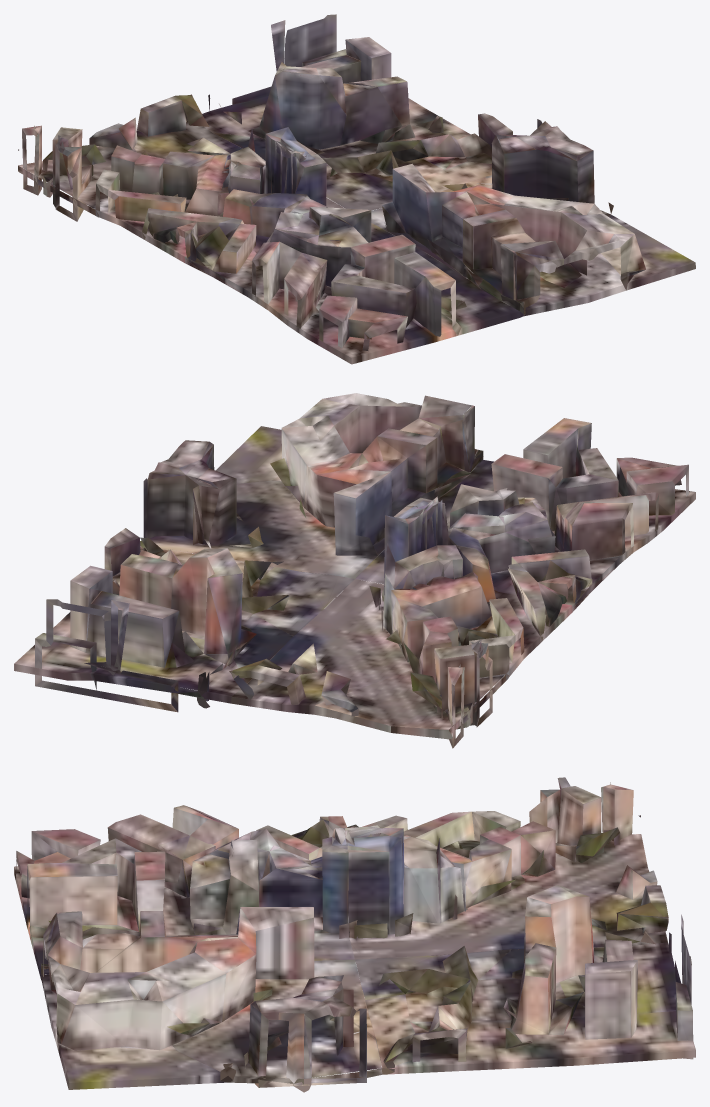
The picture shows the model from 3 angles, top to bottom: view 1: azimuth 30°, elevation 25°; view 2: azimuth 150°, elevation 25°; view 3: azimuth 270°, elevation 25°; orthographic projection. The views are drawn at different scales.
Visible parts, largest first — view 1: Mesh_0; view 2: Mesh_0; view 3: Mesh_0.
Part boxes in pixels (x1,y1,x2,y2): Mesh_0: [18, 14, 695, 364]; Mesh_0: [14, 393, 695, 748]; Mesh_0: [14, 777, 695, 1092].
Bounding box in the file's own units: 269 × 65.79 × 330.
Materials: 1 (1 with a texture image).
